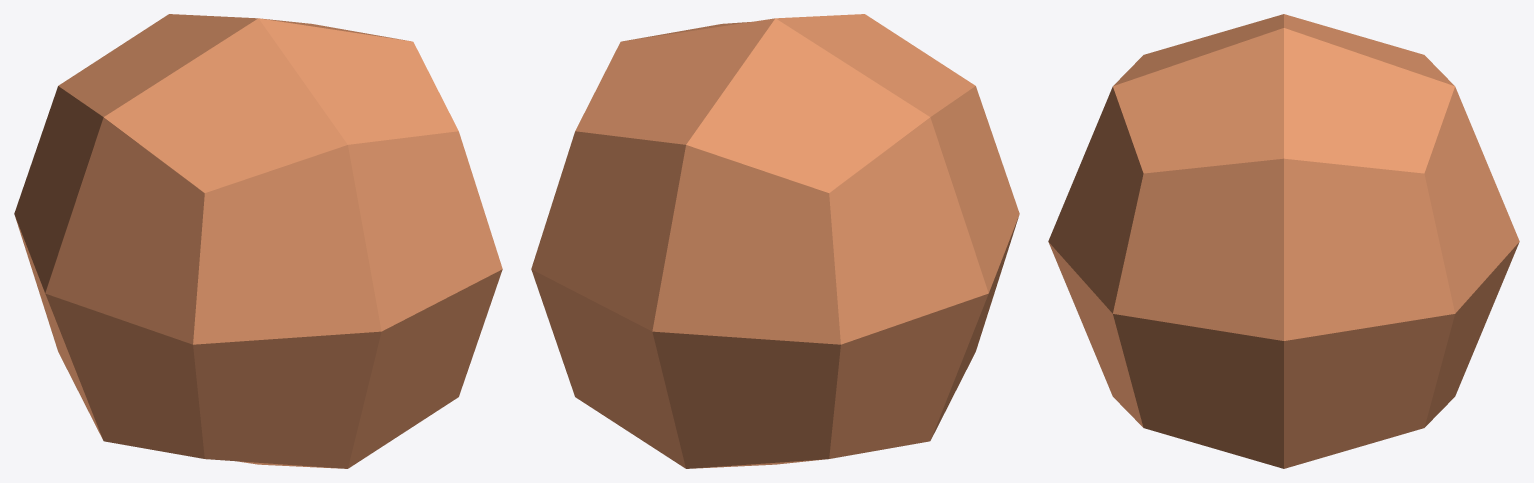
Rendered from coo2.gltf.
3 renders of one model, left to right at view 1: azimuth 30°, elevation 25°; view 2: azimuth 150°, elevation 25°; view 3: azimuth 270°, elevation 25°, orthographic. The views are drawn at different scales.
Visible parts, largest first — view 1: Cube; view 2: Cube; view 3: Cube.
Boxes of the visible parts, x1,y1,x2,y2 form: Cube: (14, 14, 502, 468); Cube: (531, 14, 1019, 468); Cube: (1048, 14, 1519, 468).
Size of the model in its own units: 1.68 by 1.68 by 1.68.
